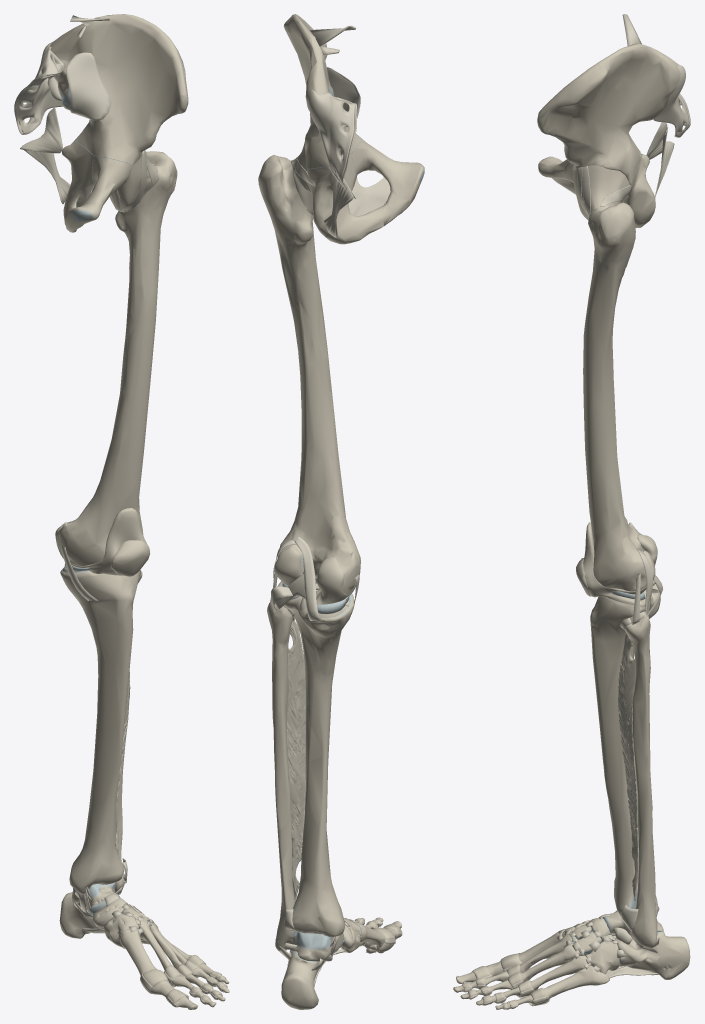
The model's file is detail-skeletal-left-lower-limb.glb.
The picture shows the model from 3 angles, left to right: view 1: azimuth 30°, elevation 25°; view 2: azimuth 150°, elevation 25°; view 3: azimuth 270°, elevation 25°; orthographic projection. The views are drawn at different scales.
Visible parts, largest first — view 1: za-5904807f8c7d2c23, za-b9d73c3c84a7f62d, za-28f17798255acd91, za-7c0368c4ee4ec6b1, za-7ae3b960e0240278, za-861071471ec3b02d, za-574a0a243828e9be, za-d57557923d41fbaf, za-3f8b0c2aee290763, za-5c4831118859bce0, za-4cd7ec615c84c1d2, za-ac33c90e5b4f8144 (+4 smaller); view 2: za-b9d73c3c84a7f62d, za-28f17798255acd91, za-5904807f8c7d2c23, za-6c8b3ad8730200ce, za-660bf0f56ec369a4, za-7ae3b960e0240278, za-861071471ec3b02d, za-d57557923d41fbaf, za-c73748fedec6f4fc, za-80a3138971d3eaa8, za-e6f5a0d20b1639f1, za-7c0368c4ee4ec6b1 (+4 smaller); view 3: za-b9d73c3c84a7f62d, za-5904807f8c7d2c23, za-28f17798255acd91, za-6c8b3ad8730200ce, za-660bf0f56ec369a4, za-d57557923d41fbaf, za-861071471ec3b02d, za-ac33c90e5b4f8144, za-7ae3b960e0240278, za-1121d2712fdac730, za-4cd7ec615c84c1d2, za-863be8d1262d8fb2 (+2 smaller).
Part boxes in pixels (x1,y1,x2,y2): za-5904807f8c7d2c23: [50, 14, 188, 232]; za-b9d73c3c84a7f62d: [56, 151, 177, 566]; za-28f17798255acd91: [60, 567, 140, 894]; za-7c0368c4ee4ec6b1: [66, 52, 111, 120]; za-7ae3b960e0240278: [14, 42, 63, 134]; za-861071471ec3b02d: [55, 508, 147, 575]; za-574a0a243828e9be: [110, 540, 150, 576]; za-d57557923d41fbaf: [59, 892, 103, 938]; za-3f8b0c2aee290763: [20, 107, 62, 153]; za-5c4831118859bce0: [120, 928, 156, 975]; za-4cd7ec615c84c1d2: [141, 955, 205, 993]; za-ac33c90e5b4f8144: [109, 155, 157, 210]; za-b9d73c3c84a7f62d: [258, 155, 360, 594]; za-28f17798255acd91: [284, 590, 354, 936]; za-5904807f8c7d2c23: [283, 14, 424, 244]; za-6c8b3ad8730200ce: [267, 601, 297, 951]; za-660bf0f56ec369a4: [287, 620, 305, 900]; za-7ae3b960e0240278: [308, 89, 356, 189]; za-861071471ec3b02d: [274, 546, 349, 618]; za-d57557923d41fbaf: [281, 951, 332, 1009]; za-c73748fedec6f4fc: [348, 177, 390, 216]; za-80a3138971d3eaa8: [290, 932, 344, 961]; za-e6f5a0d20b1639f1: [294, 537, 322, 621]; za-7c0368c4ee4ec6b1: [327, 67, 360, 118]; za-b9d73c3c84a7f62d: [583, 202, 652, 591]; za-5904807f8c7d2c23: [537, 43, 680, 227]; za-28f17798255acd91: [590, 590, 658, 916]; za-6c8b3ad8730200ce: [624, 611, 657, 948]; za-660bf0f56ec369a4: [618, 634, 638, 900]; za-d57557923d41fbaf: [612, 931, 690, 979]; za-861071471ec3b02d: [583, 522, 658, 607]; za-ac33c90e5b4f8144: [572, 165, 629, 219]; za-7ae3b960e0240278: [653, 65, 690, 137]; za-1121d2712fdac730: [543, 965, 609, 1000]; za-4cd7ec615c84c1d2: [500, 953, 546, 1005]; za-863be8d1262d8fb2: [585, 941, 619, 974].
Size of the model in its own units: 0.1456 by 1.01 by 0.2294.
